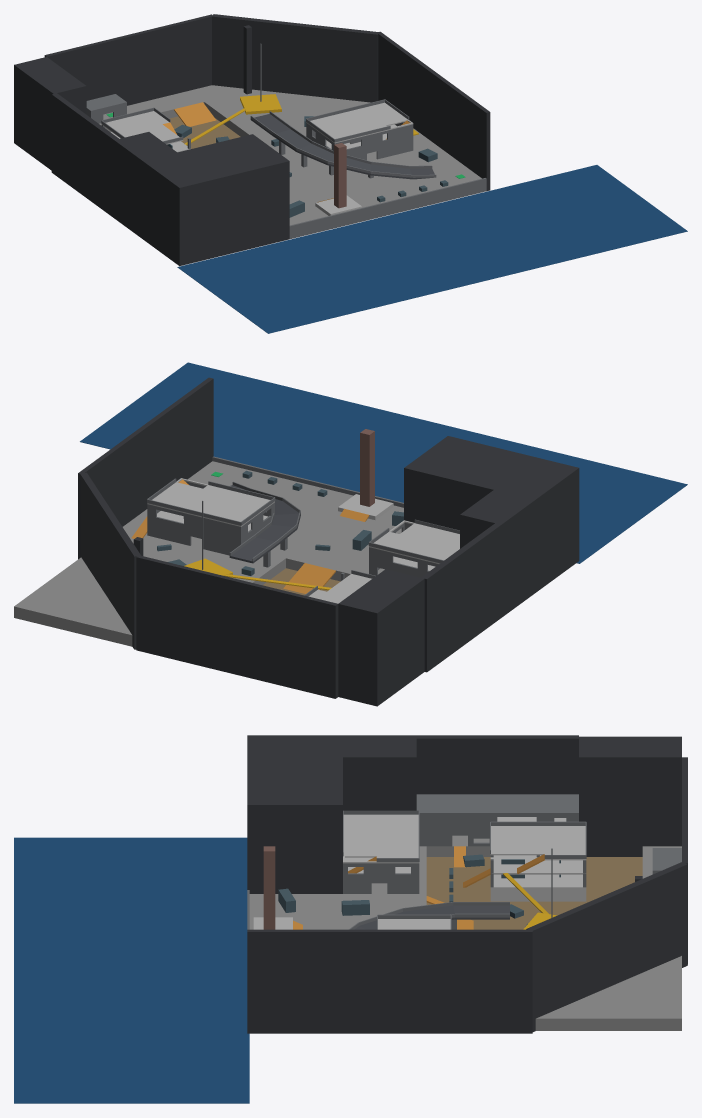
The model's file is headlong_greybox.glb.
The picture shows the model from 3 angles, top to bottom: view 1: azimuth 30°, elevation 25°; view 2: azimuth 150°, elevation 25°; view 3: azimuth 270°, elevation 25°; orthographic projection. The views are drawn at different scales.
Visible parts, largest first — view 1: Headlong_Oob-col, Headlong_Sea-col, Headlong_Ground-col, Headlong_Wall-col, Headlong_Floor-col, Headlong_Road-col, Headlong_Cover-col, Headlong_Catwalk-col, Headlong_Pit-col, Headlong_Statue-col, Headlong_Ramp-col; view 2: Headlong_Oob-col, Headlong_Sea-col, Headlong_Ground-col, Headlong_Wall-col, Headlong_Floor-col, Headlong_Road-col, Headlong_Ramp-col, Headlong_Statue-col, Headlong_Cover-col, Headlong_Catwalk-col; view 3: Headlong_Oob-col, Headlong_Sea-col, Headlong_Ground-col, Headlong_Wall-col, Headlong_Floor-col, Headlong_Pit-col, Headlong_Cover-col, Headlong_Road-col, Headlong_Ramp-col, Headlong_Statue-col.
Part boxes in pixels (box(x1,y1,x2,y2)): Headlong_Oob-col: box(14, 14, 490, 266); Headlong_Sea-col: box(177, 165, 687, 333); Headlong_Ground-col: box(99, 85, 481, 225); Headlong_Wall-col: box(86, 43, 486, 238); Headlong_Floor-col: box(101, 102, 413, 215); Headlong_Road-col: box(250, 114, 434, 179); Headlong_Cover-col: box(167, 116, 448, 217); Headlong_Catwalk-col: box(184, 94, 418, 145); Headlong_Pit-col: box(170, 116, 240, 148); Headlong_Statue-col: box(334, 143, 346, 208); Headlong_Ramp-col: box(163, 102, 409, 202); Headlong_Oob-col: box(78, 377, 579, 706); Headlong_Sea-col: box(80, 362, 687, 563); Headlong_Ground-col: box(14, 461, 403, 646); Headlong_Wall-col: box(147, 456, 459, 596); Headlong_Floor-col: box(147, 478, 459, 603); Headlong_Road-col: box(229, 485, 300, 563); Headlong_Ramp-col: box(131, 479, 369, 593); Headlong_Statue-col: box(360, 429, 374, 506); Headlong_Cover-col: box(157, 470, 403, 575); Headlong_Catwalk-col: box(184, 558, 331, 590); Headlong_Oob-col: box(247, 735, 687, 1033); Headlong_Sea-col: box(14, 837, 249, 1103); Headlong_Ground-col: box(249, 835, 681, 1030); Headlong_Wall-col: box(247, 794, 681, 929); Headlong_Floor-col: box(253, 814, 586, 929); Headlong_Pit-col: box(426, 857, 642, 929); Headlong_Cover-col: box(278, 854, 560, 926); Headlong_Road-col: box(354, 905, 509, 929); Headlong_Ramp-col: box(293, 846, 544, 929); Headlong_Statue-col: box(263, 846, 275, 929).
Bounding box in the file's own units: 160 × 32.55 × 172.
